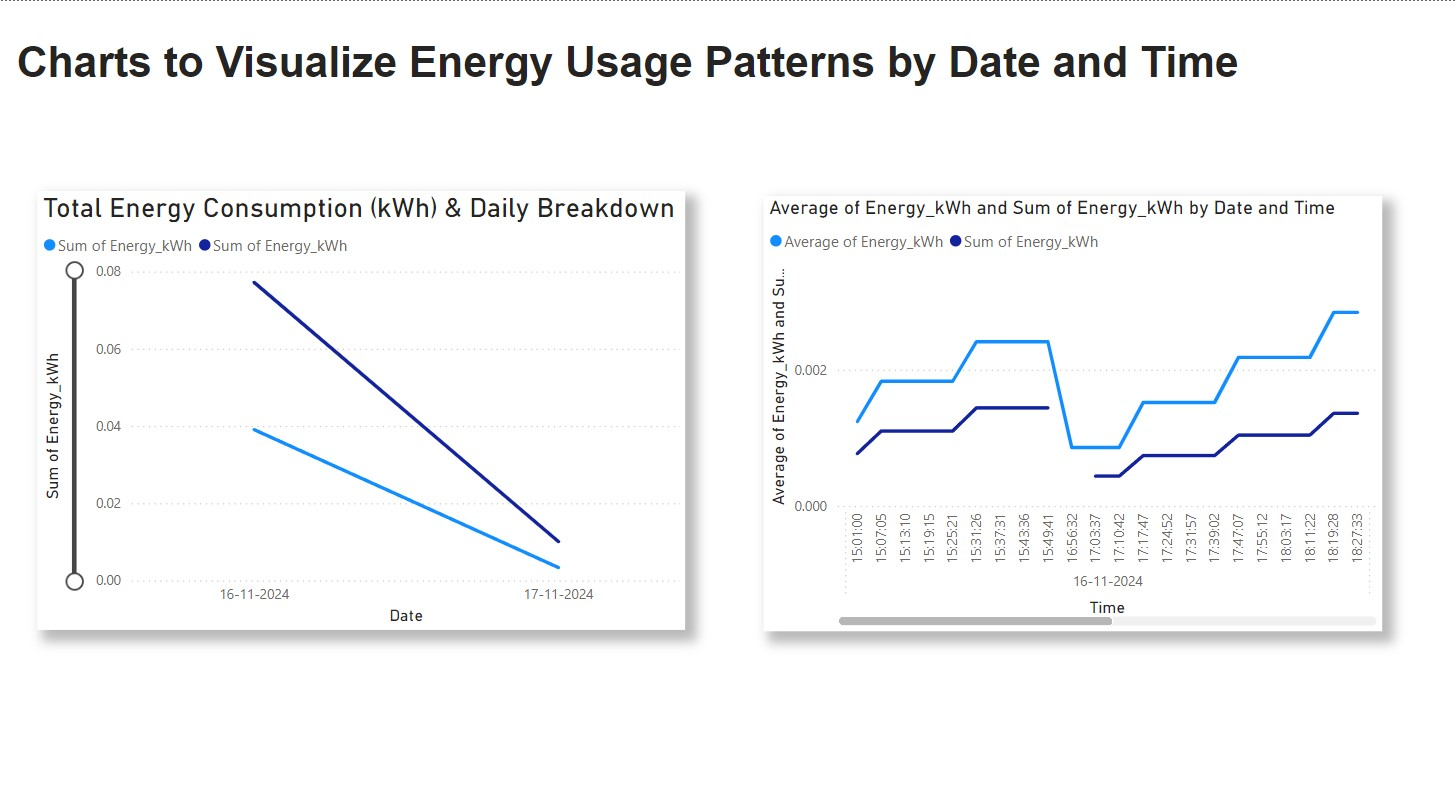

The page's visual inventory and layout, read from the dashboard file:
{"tool":"powerbi","page":{"name":"Page 3","canvas":[1280,700],"ordinal":2},"visuals":[{"type":"textbox","box":[13.1,27.3,1093.8,74.9],"z":0},{"type":"lineChart","title":"Total Energy Consumption (kWh) & Daily Breakdown","fields":{"Category":["BulbData.Date"],"Y":["Sum(60w_Table.Energy_kWh)","Sum(100w_Table.Energy_kWh)"]},"box":[35.7,166.4,568.3,385.2],"z":1000},{"type":"lineChart","fields":{"Category":["BulbData.Date","BulbData.Time"],"Y":["Avg(100w_Table.Energy_kWh)","Sum(60w_Table.Energy_kWh)"]},"box":[672.6,171,542.6,381.5],"z":2000}]}

Visuals, with their boxes in screenshot pixels (x1, y1, x2, y2), scaled from the page's 1280x700 canvas onto the 1456x793 screenshot:
textbox: (x1=15, y1=31, x2=1259, y2=116)
"Total Energy Consumption (kWh) & Daily Breakdown" lineChart: (x1=41, y1=189, x2=687, y2=625)
lineChart - BulbData.Date x BulbData.Time: (x1=765, y1=194, x2=1382, y2=626)
